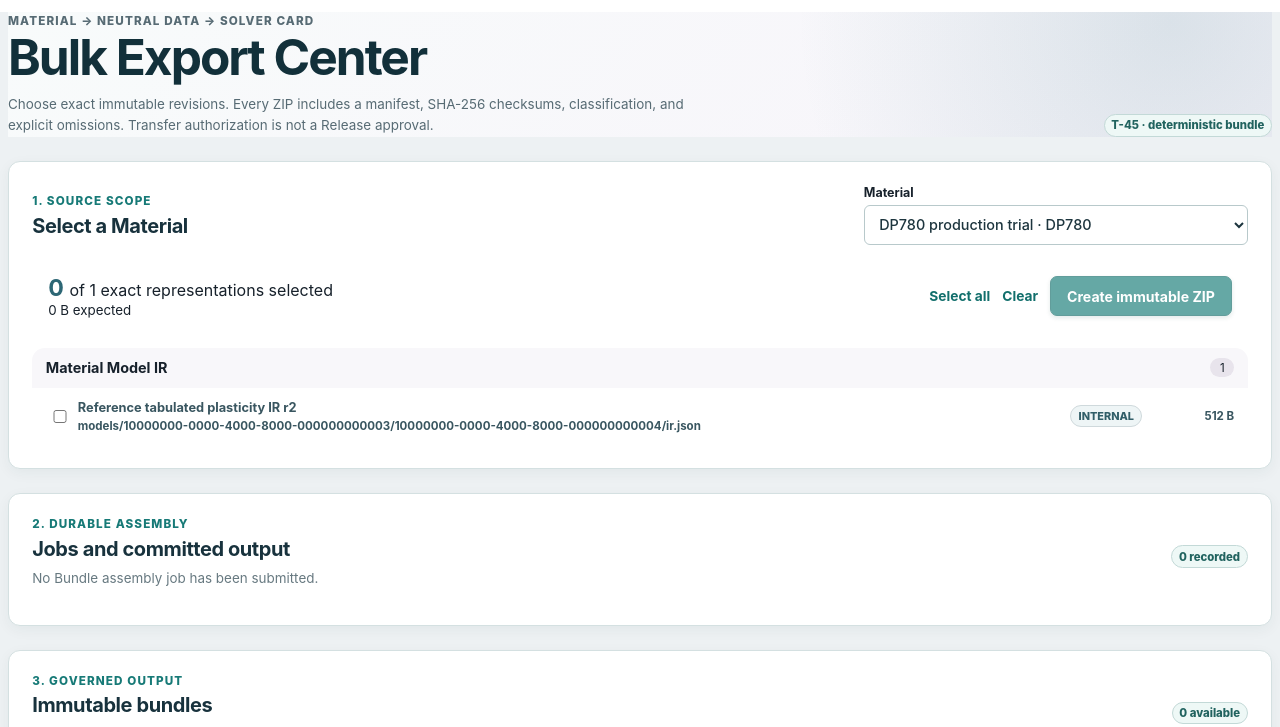
Test: BulkExportCenter › discovers exact revisions and sends an explicit immutable selection
This screenshot has width=1280, height=727.
expect the text "Reference tabulated plasticity IR r2" is shown: met, box left=78, top=400, right=296, bottom=415
Click the button "Select all".
click(960, 296)  # box left=929, top=284, right=990, bottom=308
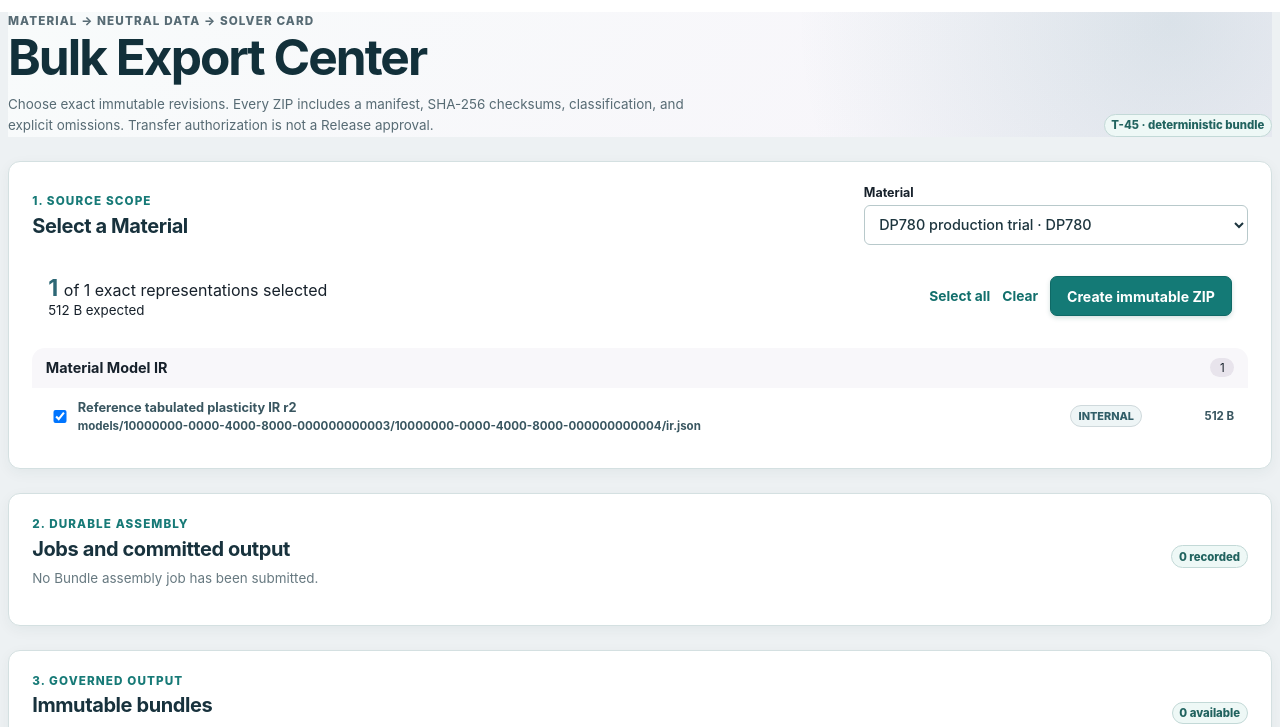
Click the button "Create immutable ZIP".
click(1141, 296)  # box left=1050, top=276, right=1232, bottom=316
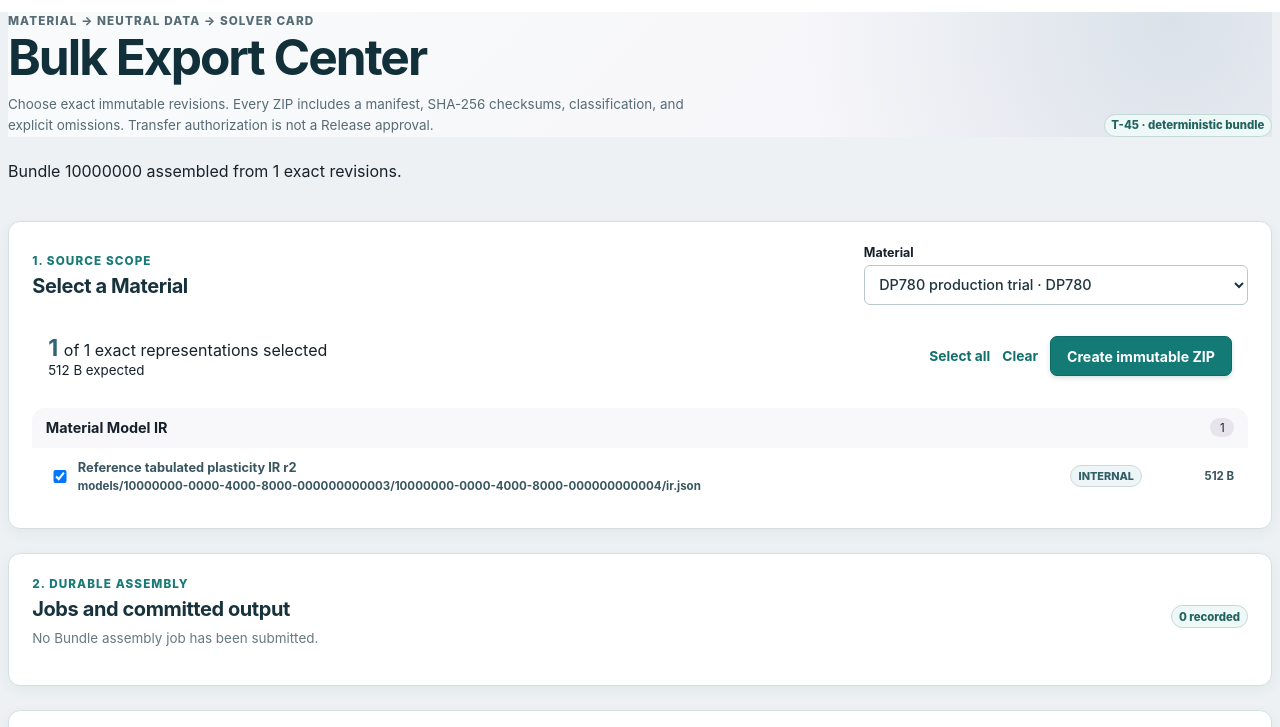
expect the text "Bundle 10000000 assembled from 1 exact revisions." is shown: met, box left=8, top=161, right=402, bottom=181
